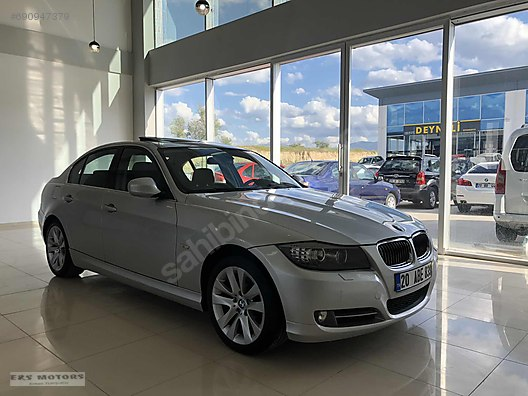bmw: (34, 132, 438, 361)
